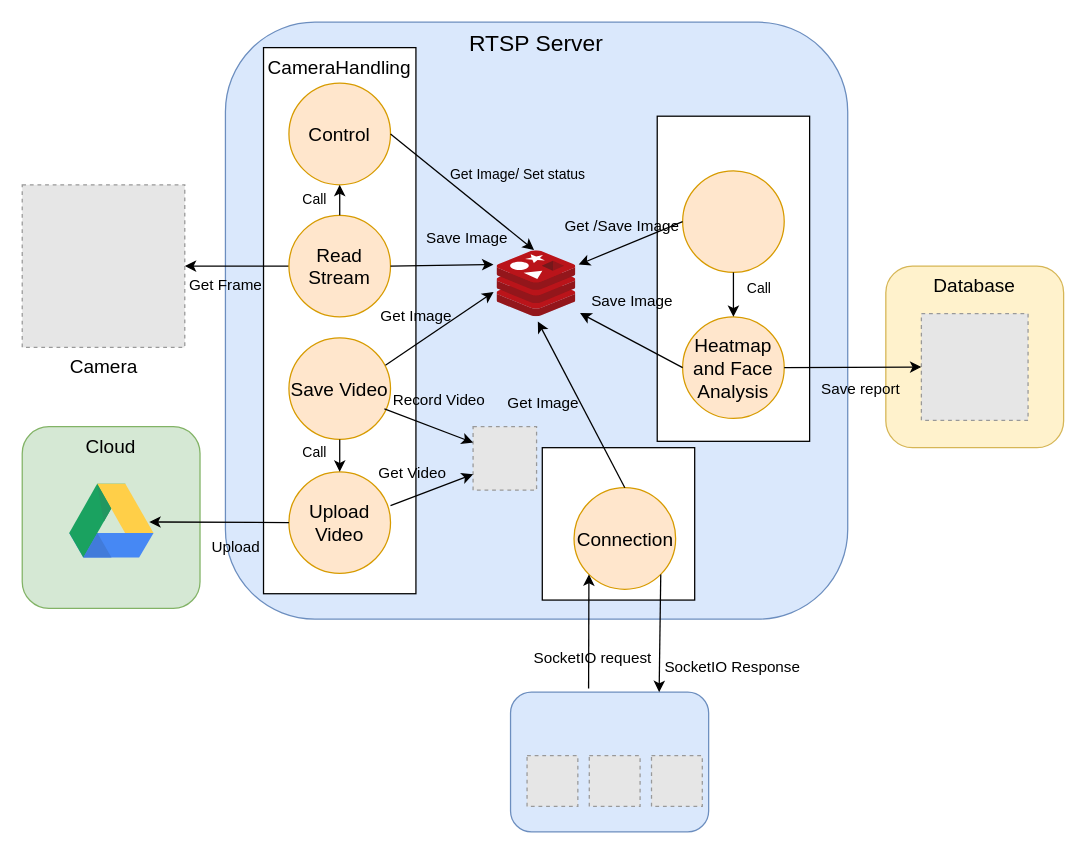
This 1086x855 diagram has some shape labels left out. Grey dashed boxes stand in for pictures. Each missing label, with the box of its shape:
Client: (541, 446, 695, 600)
Google Drive: (68, 483, 154, 558)
Object Detection: (681, 170, 784, 272)
Redis: (497, 250, 575, 316)
Website: (509, 691, 709, 832)
Worker: (656, 115, 810, 441)
